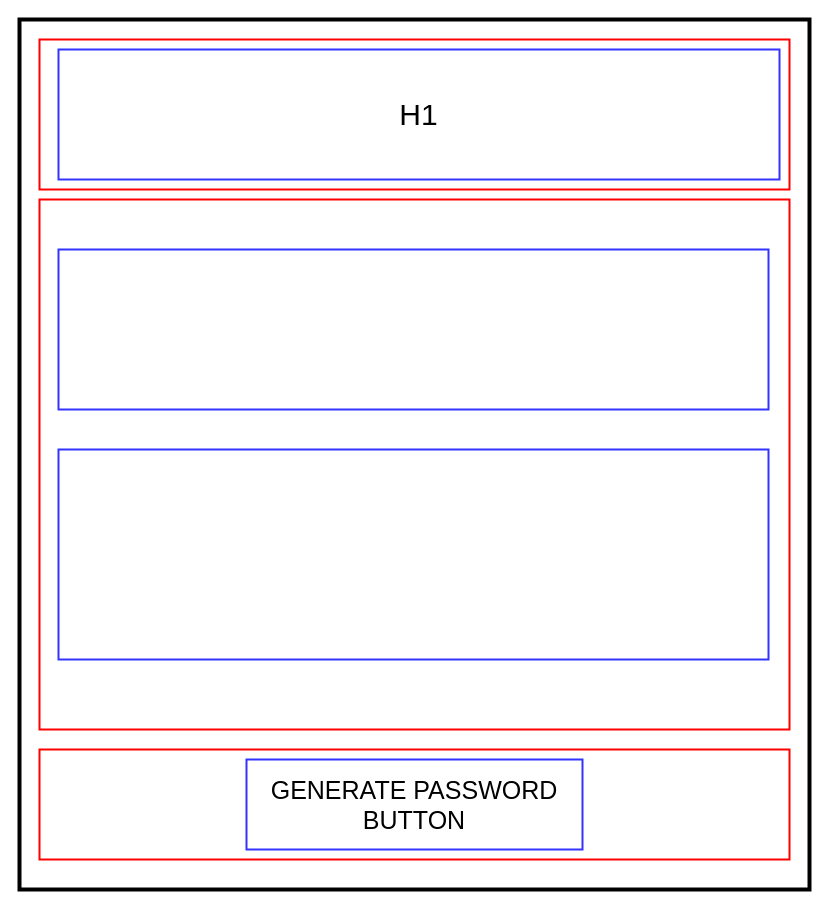
This 828x908 diagram has some shape labels left out. The shapes that lost their labels are listed below. From the top down, each one's box as (x1, y1, x2, y2) in pixels, then its label:
(57, 248, 769, 410): H2
(57, 448, 769, 660): SECURE PASSWORD DISPLAY
